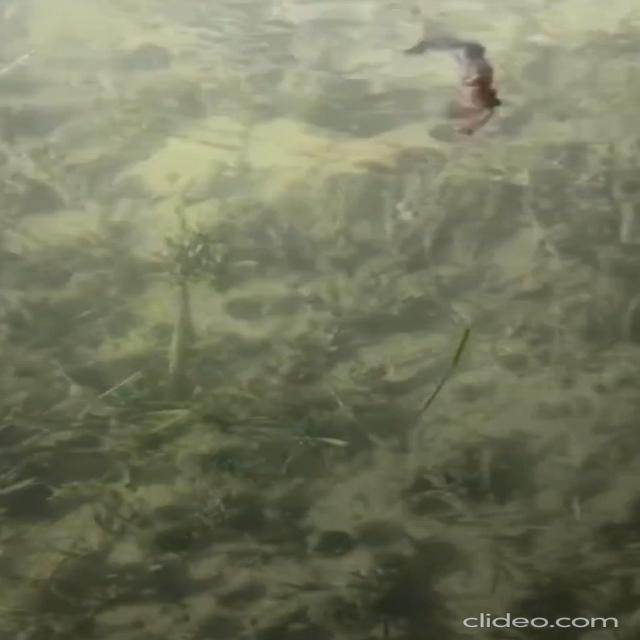fish: (406, 34, 530, 146)
